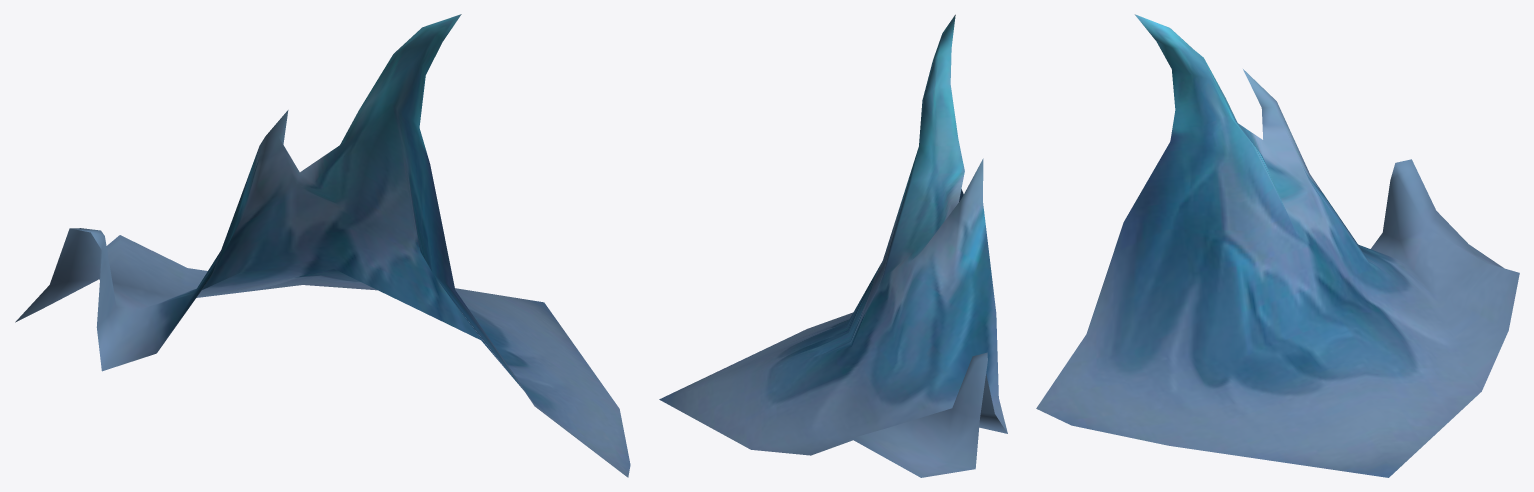
File: LGhuangyuan_shuijing04.FBX
3 views of the same model, side by side, from view 1: azimuth 30°, elevation 25°; view 2: azimuth 150°, elevation 25°; view 3: azimuth 270°, elevation 25° (orthographic). The views are drawn at different scales.
Parts seen in each view (by area): view 1: LGhuangyuan_shuijing04; view 2: LGhuangyuan_shuijing04; view 3: LGhuangyuan_shuijing04.
Part boxes in pixels (x1,y1,x2,y2): LGhuangyuan_shuijing04: [15, 14, 630, 477]; LGhuangyuan_shuijing04: [659, 14, 1007, 477]; LGhuangyuan_shuijing04: [1036, 14, 1519, 477].
Size of the model in its own units: 413 by 453 by 382.
